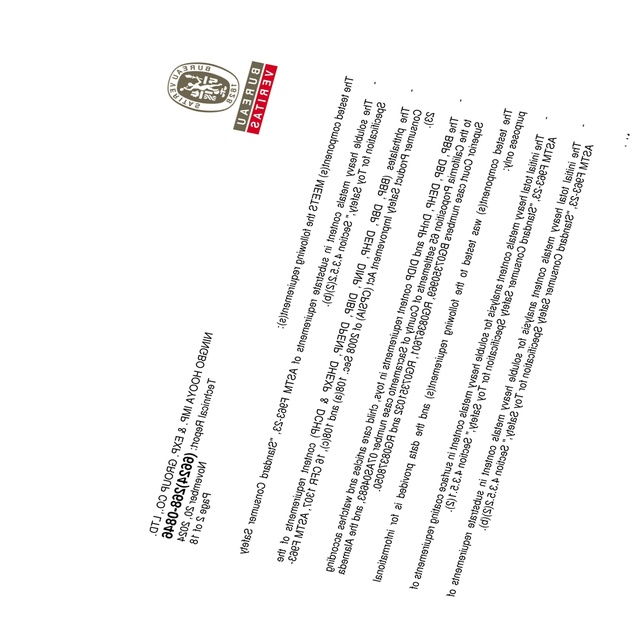bureau_veritas: (162, 53, 281, 138)
